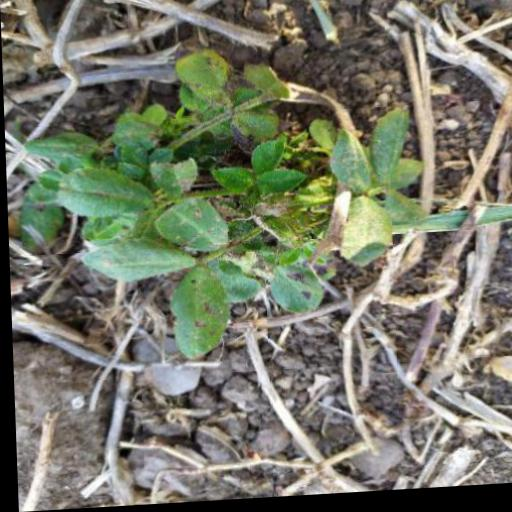weed: (3, 67, 419, 367)
